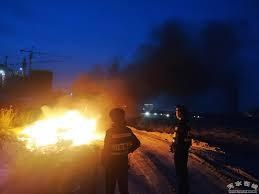fire: (18, 105, 105, 147)
